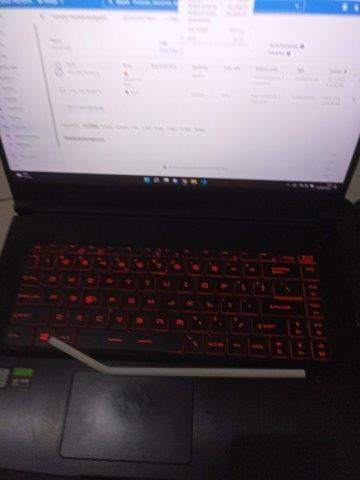sedotan: (48, 336, 305, 378)
